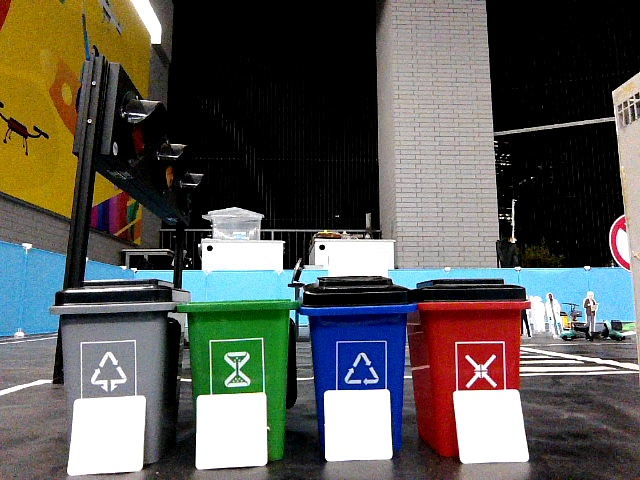blue_close: (309, 276, 402, 384)
green_open: (191, 300, 286, 391)
grey_close: (64, 282, 168, 394)
red_close: (421, 280, 517, 388)
